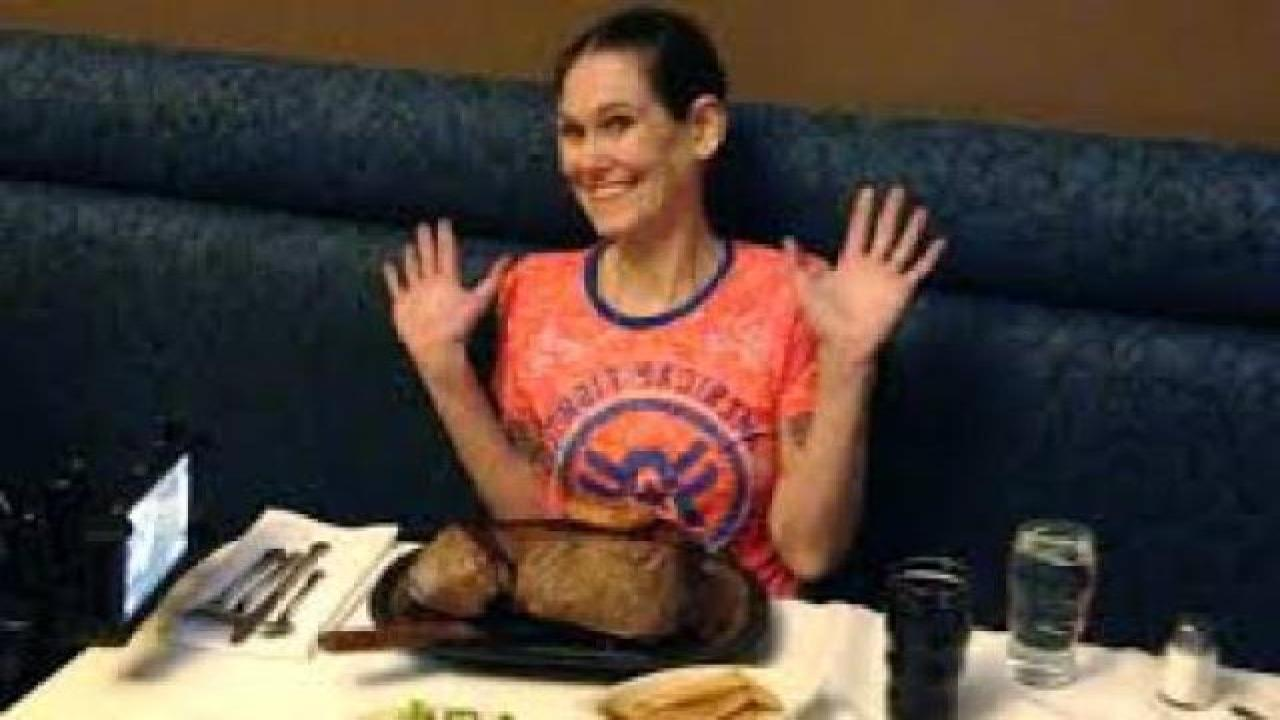Carne: (498, 513, 720, 656), (391, 524, 512, 630)
